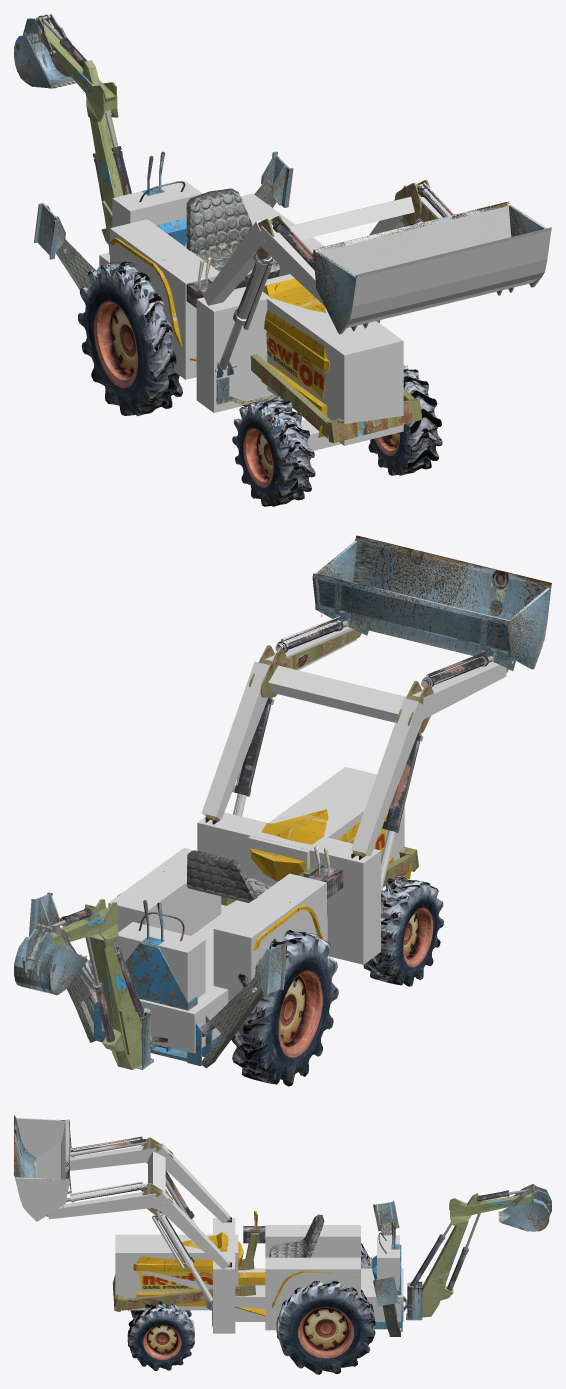
File: tractor.fbx
3 renders of one model, top to bottom at view 1: azimuth 30°, elevation 25°; view 2: azimuth 150°, elevation 25°; view 3: azimuth 270°, elevation 25°, orthographic. The views are drawn at different scales.
Visible parts, largest first — view 1: MainBody, rr_tire, hidden_Box001, hidden_convexhull_b003, fr_tire, hidden_convexhull_bucket_00, hidden_Box002, hidden_Box004, fl_tire, frontBucket, boom, hidden_Box006 (+11 smaller); view 2: frontBucket, MainBody, rr_tire, hidden_Box002, hidden_Box004, fr_tire, hidden_Box001, hidden_Box003, boom, hidden_Box005, hidden_convexhull_02, hidden_convexhull_03 (+13 smaller); view 3: MainBody, rl_tire, fl_tire, hidden_Box003, hidden_Box001, hidden_Box004, boom, hidden_Box002, hidden_Box005, hidden_convexhull_b2, hidden_convexhull_00, bucket (+18 smaller).
Part boxes in pixels (x1,y1,x2,y2): MainBody: (96, 151, 422, 443); rr_tire: (78, 261, 182, 416); hidden_Box001: (266, 274, 403, 445); hidden_convexhull_b003: (352, 228, 549, 318); fr_tire: (232, 396, 315, 506); hidden_convexhull_bucket_00: (316, 205, 511, 275); hidden_Box002: (196, 276, 379, 412); hidden_Box004: (110, 219, 219, 379); fl_tire: (368, 365, 442, 475); frontBucket: (313, 201, 544, 334); boom: (86, 82, 123, 248); hidden_Box006: (112, 180, 202, 247); frontBucket: (312, 535, 551, 670); MainBody: (94, 809, 418, 1065); rr_tire: (231, 930, 338, 1086); hidden_Box002: (197, 812, 380, 964); hidden_Box004: (213, 873, 326, 1002); fr_tire: (363, 875, 443, 986); hidden_Box001: (248, 767, 404, 887); hidden_Box003: (108, 847, 221, 944); boom: (89, 899, 141, 1069); hidden_Box005: (101, 900, 327, 1053); hidden_convexhull_02: (351, 698, 427, 856); hidden_convexhull_03: (268, 665, 405, 722); MainBody: (112, 1210, 402, 1331); rl_tire: (276, 1281, 375, 1374); fl_tire: (127, 1301, 194, 1370); hidden_Box003: (265, 1257, 360, 1330); hidden_Box001: (115, 1234, 238, 1310); hidden_Box004: (265, 1225, 360, 1257); boom: (422, 1198, 471, 1317); hidden_Box002: (213, 1218, 235, 1333); hidden_Box005: (235, 1268, 403, 1321); hidden_convexhull_b2: (14, 1175, 69, 1221); hidden_convexhull_00: (48, 1191, 156, 1219); bucket: (498, 1186, 551, 1231).
Bounding box in the file's own units: 110 × 336 × 139.
